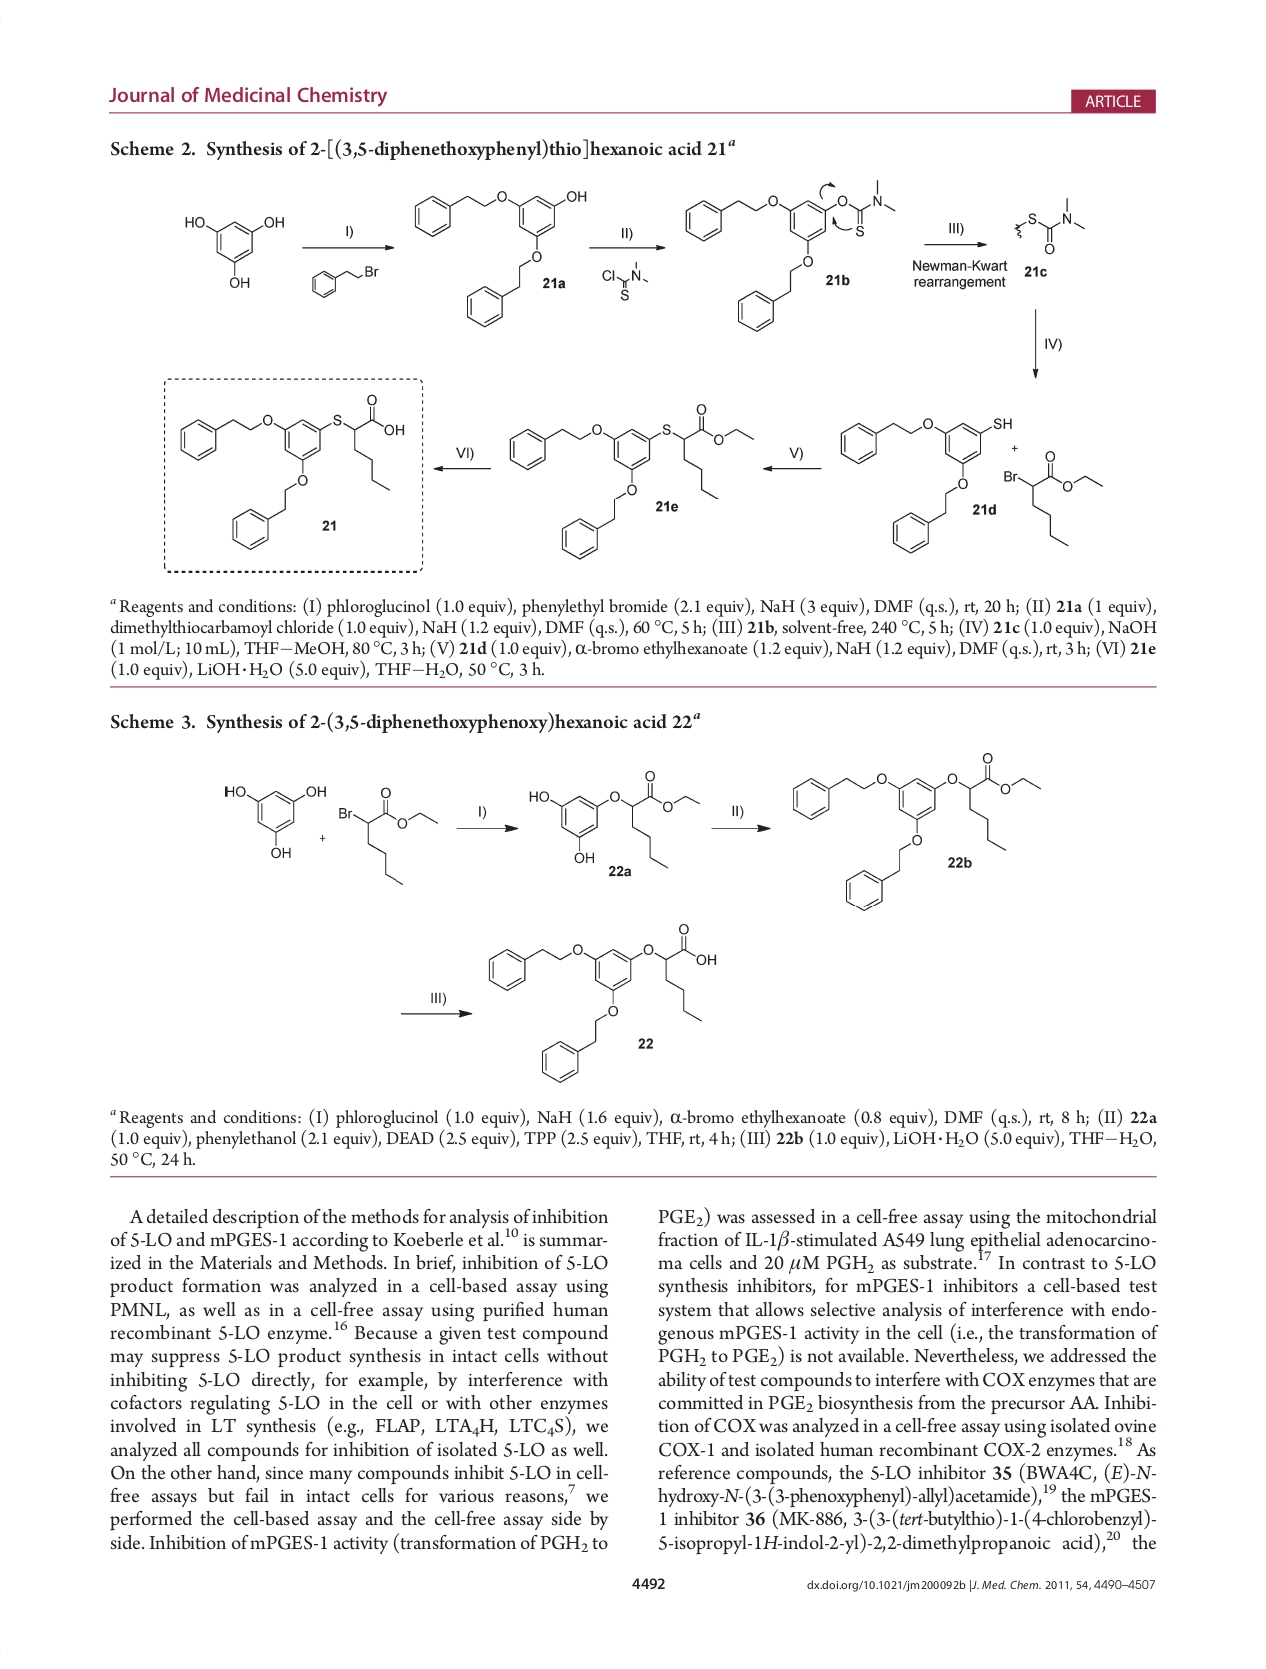exist_molecular: (790, 750, 1043, 914), (505, 402, 755, 560), (487, 922, 719, 1087), (176, 390, 408, 553), (677, 177, 898, 336), (834, 414, 1015, 556), (411, 188, 586, 330), (527, 765, 702, 870), (335, 783, 440, 886), (1001, 449, 1105, 551), (219, 781, 330, 863), (177, 210, 289, 291), (1008, 192, 1086, 257), (309, 262, 379, 303)
